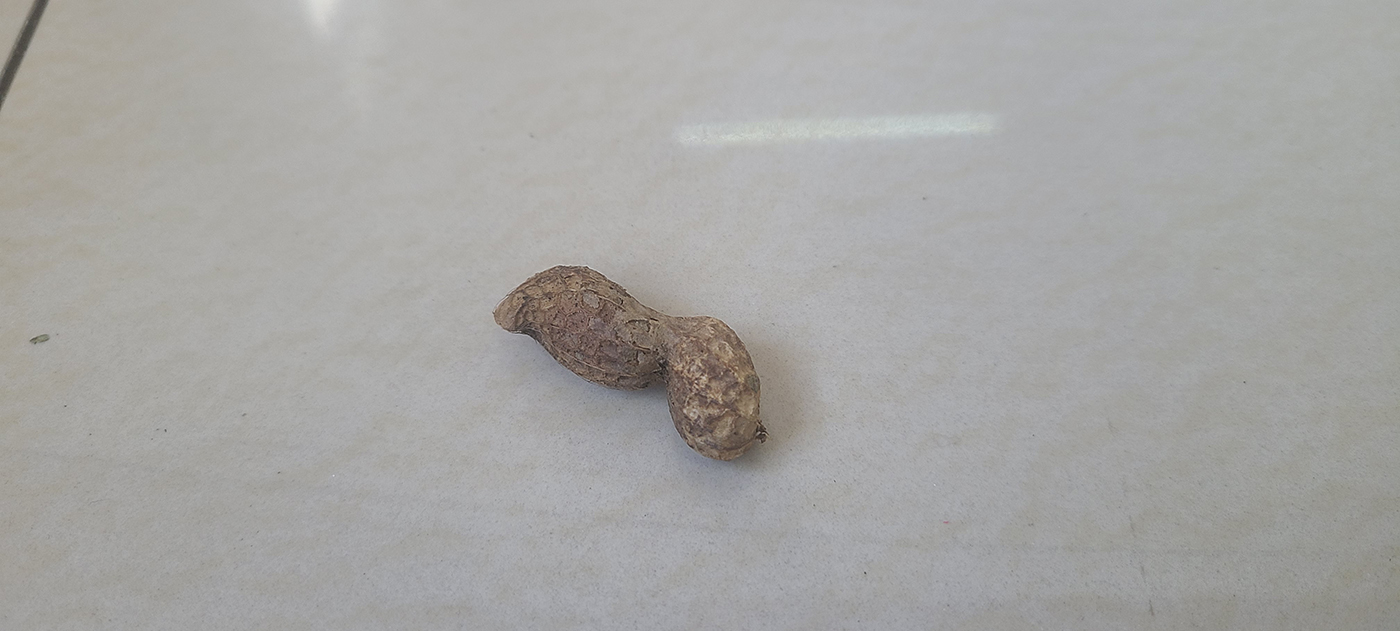l: (491, 263, 770, 464)
